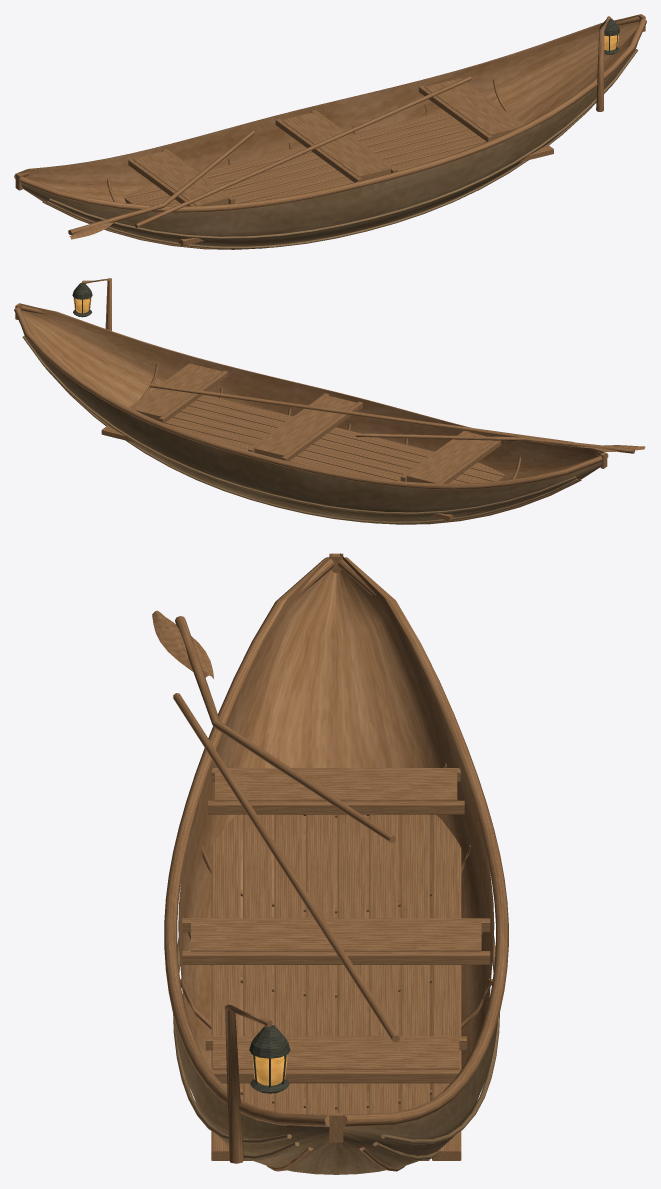
The model's file is yakatabune_skiff.glb.
3 renders of one model, top to bottom at view 1: azimuth 30°, elevation 25°; view 2: azimuth 150°, elevation 25°; view 3: azimuth 270°, elevation 25°, orthographic. The views are drawn at different scales.
Visible parts, largest first — view 1: yakatabune_skiff; view 2: yakatabune_skiff; view 3: yakatabune_skiff.
Boxes of the visible parts, <box> form: yakatabune_skiff: <box>14,14,646,249</box>; yakatabune_skiff: <box>14,278,645,524</box>; yakatabune_skiff: <box>152,553,508,1174</box>.
Size of the model in its own units: 4.5 by 1.05 by 1.18.
Materials: 2 (2 with a texture image).
